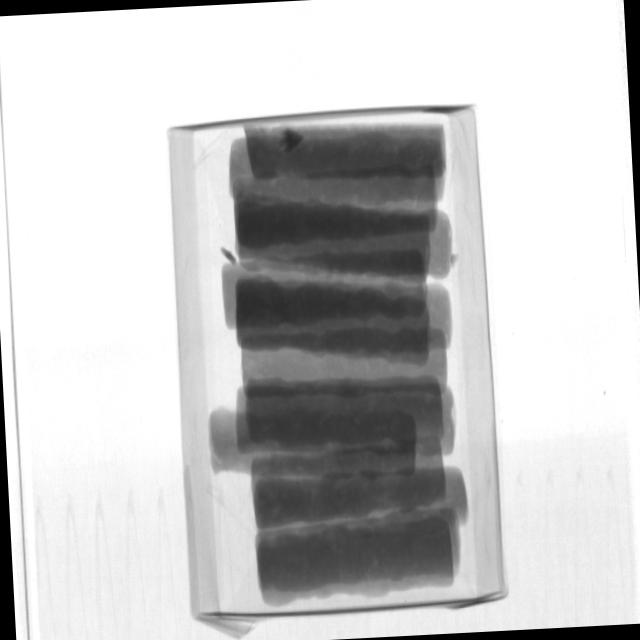ym: (282, 130, 305, 154), (221, 245, 239, 268), (450, 253, 461, 269)
